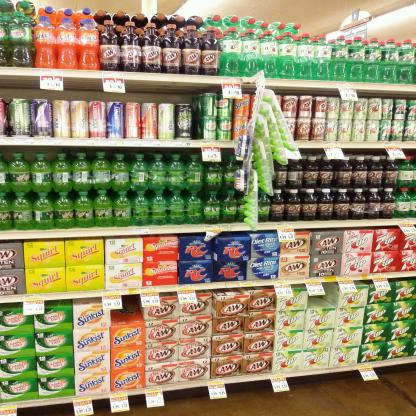Void: (111, 300, 141, 322), (311, 286, 336, 306)
